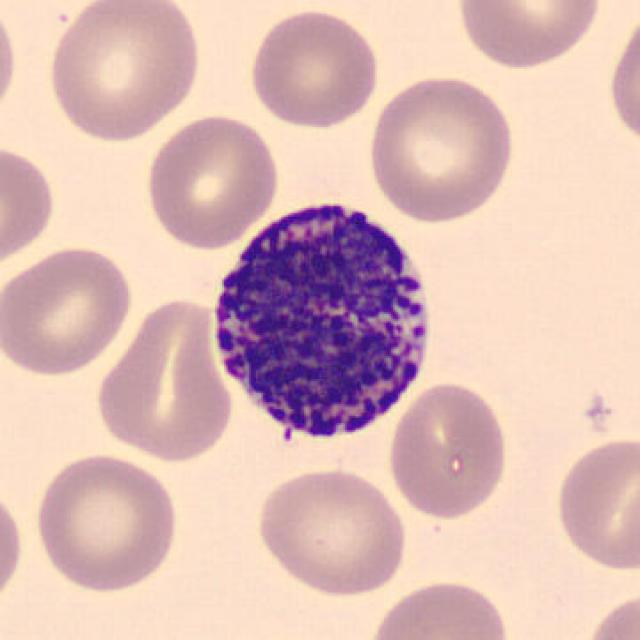Basophil: (199, 185, 445, 462)
RBC: (91, 291, 238, 467), (364, 70, 518, 224), (42, 0, 204, 143), (30, 448, 182, 594), (250, 462, 410, 599), (142, 109, 283, 252), (0, 242, 137, 379), (384, 377, 512, 522), (245, 5, 384, 130), (551, 432, 638, 575), (451, 0, 606, 72), (366, 575, 514, 640), (0, 140, 59, 274), (604, 5, 640, 155), (0, 482, 27, 614), (580, 589, 638, 640), (0, 2, 21, 127)
